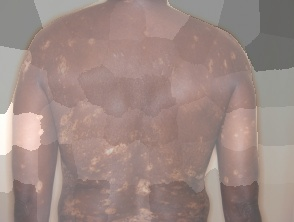vitiligo: (8, 0, 269, 222)
